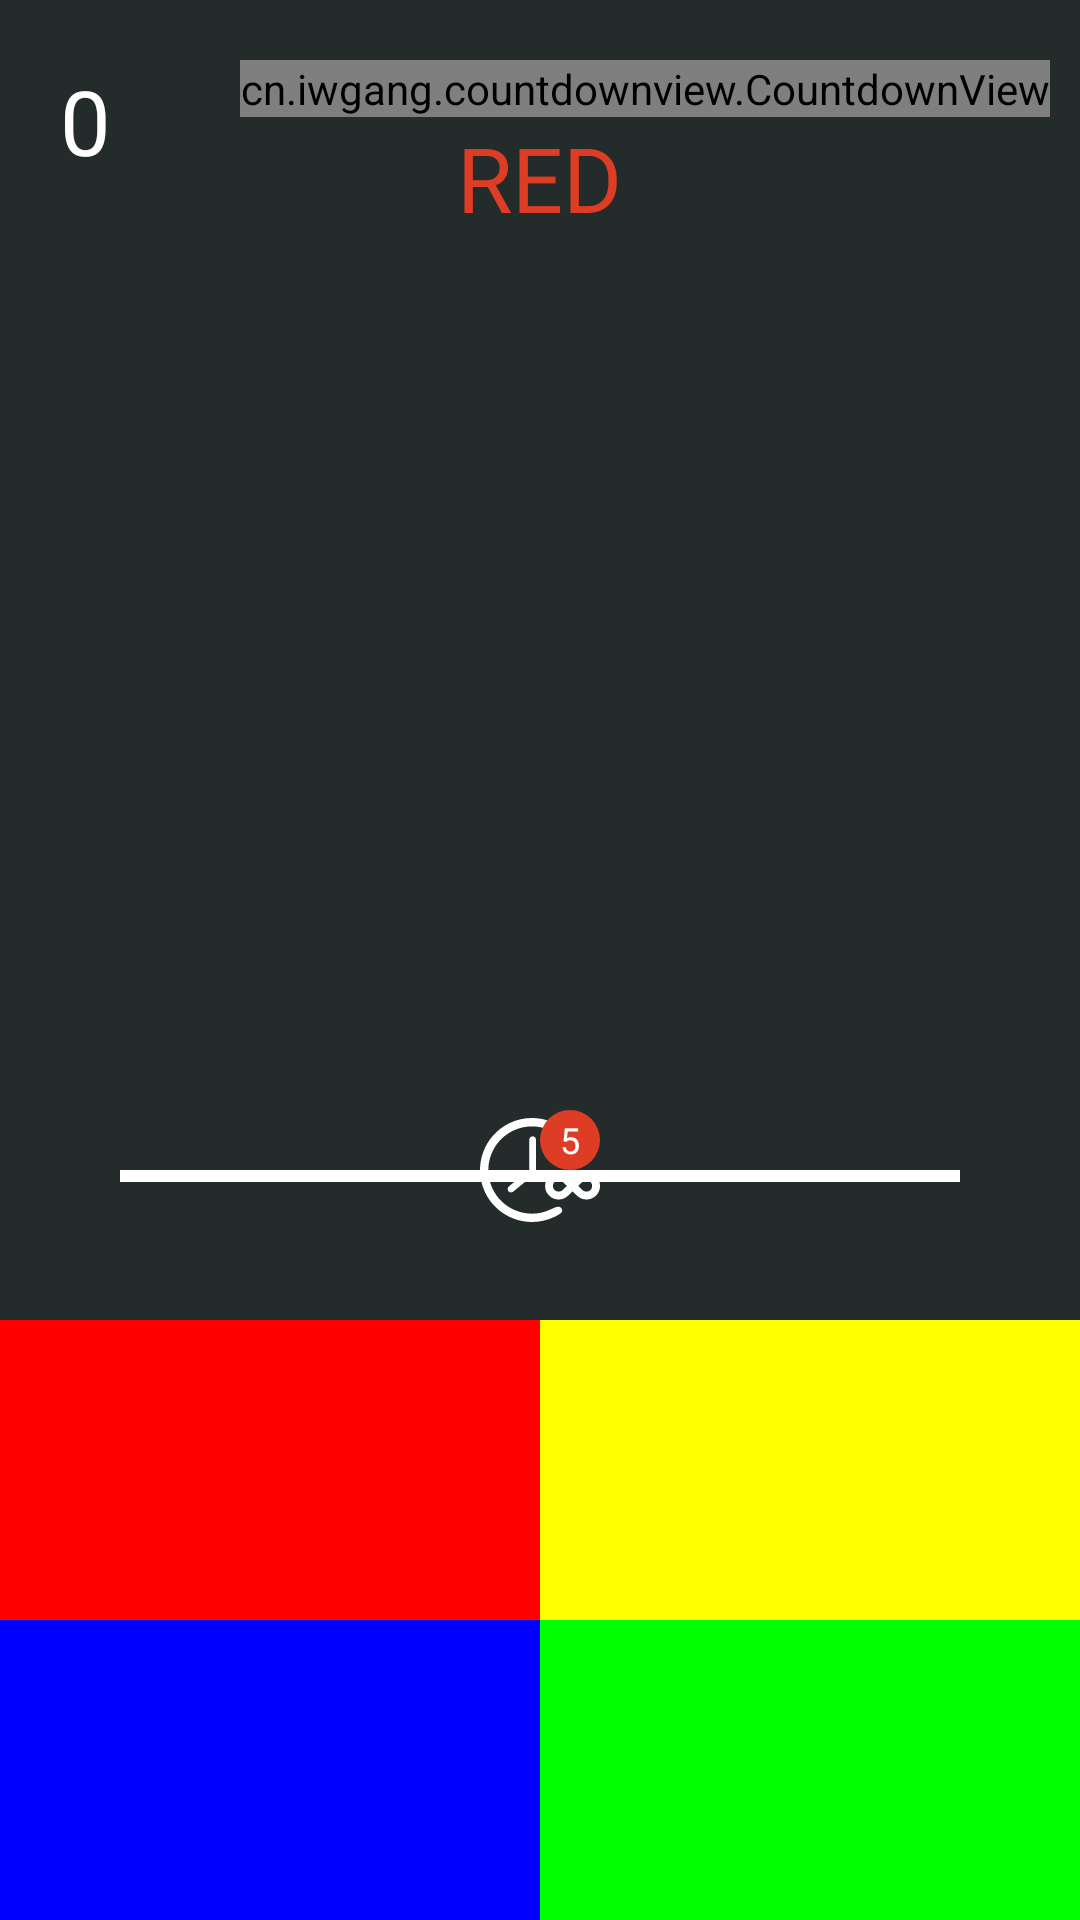

Screen size 1080px x 1920px. Icon name, then its box in pixels as (x1, y1, x2, y2):
infinite time: (480, 1110, 600, 1222)
